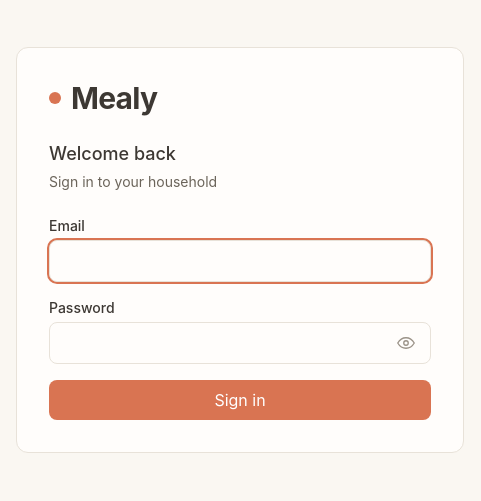
LoginForm error mapping › shows the network/5xx message on 500
Expected: the heading "Welcome back" is shown, [49, 143, 176, 164]
Type "a@b.com" into the field labelled "Email" at (240, 261), box [49, 240, 431, 282]
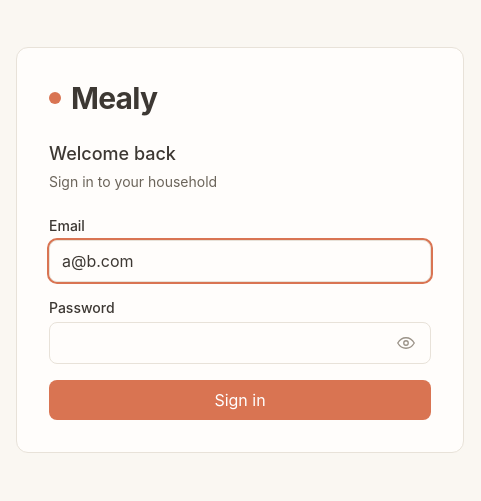
Type "pwd-1234567890" into the password field labelled "Password" at (240, 343), box [49, 322, 431, 364]
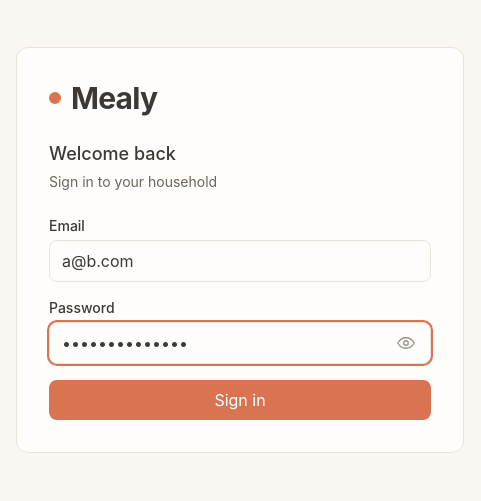
Click the button "Sign in" at (240, 400), box [49, 380, 431, 420]
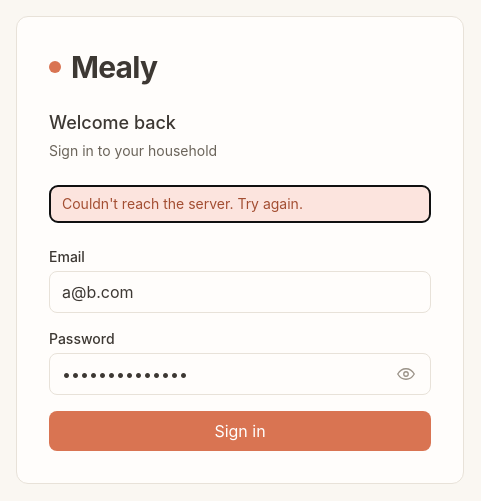
Expected: the text "Couldn't reach the server. Try again." is shown, [49, 185, 431, 223]
